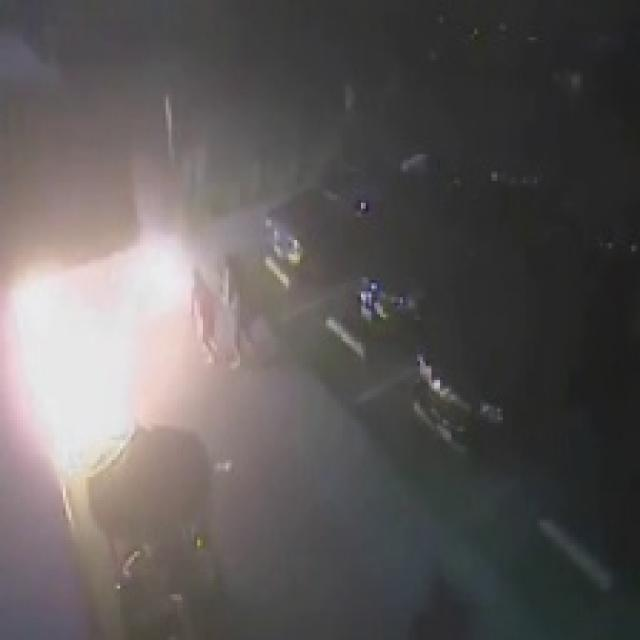fire: (13, 255, 176, 450)
